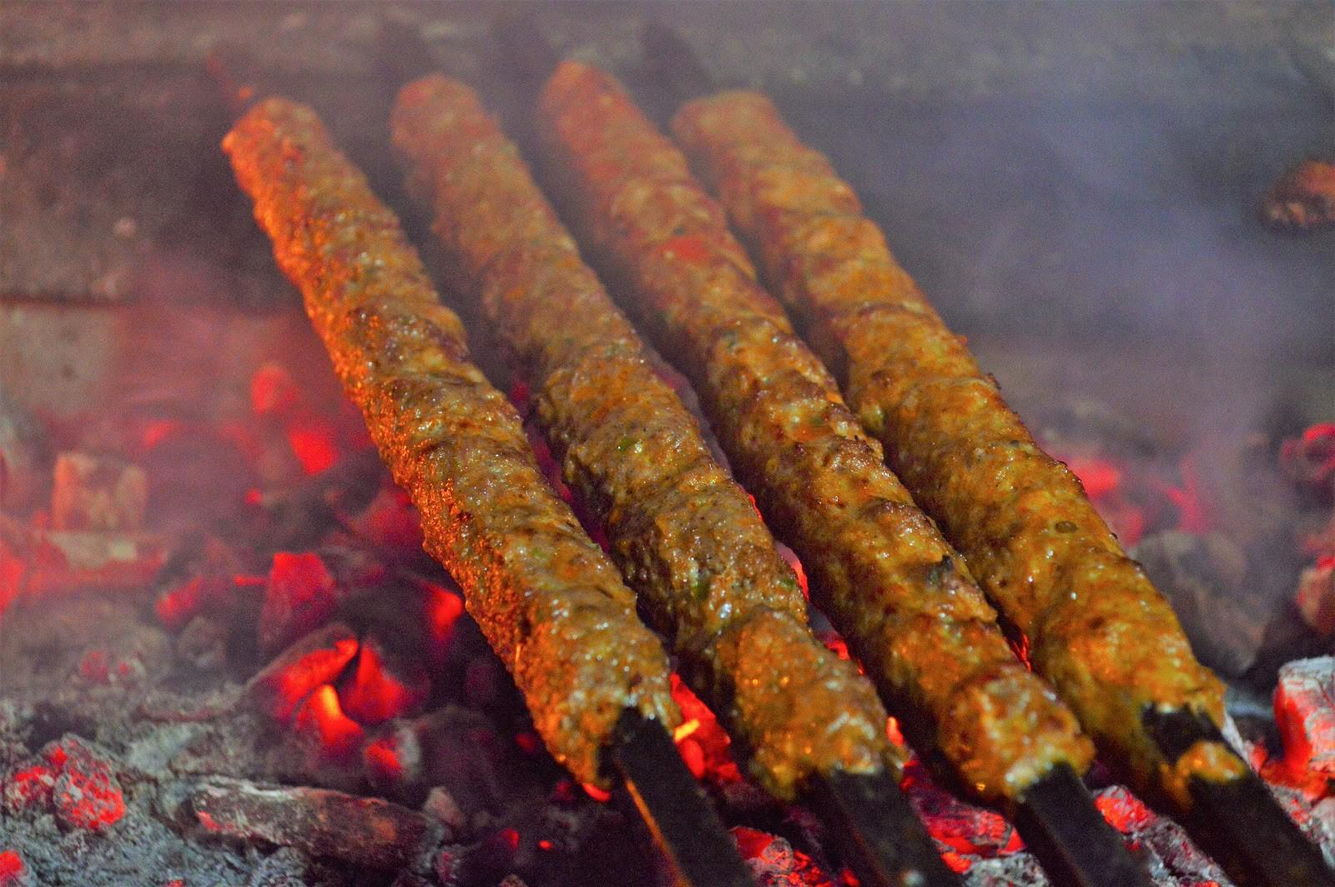Kebab: (531, 59, 1096, 799), (670, 90, 1234, 791), (387, 78, 894, 793), (222, 96, 675, 799)
